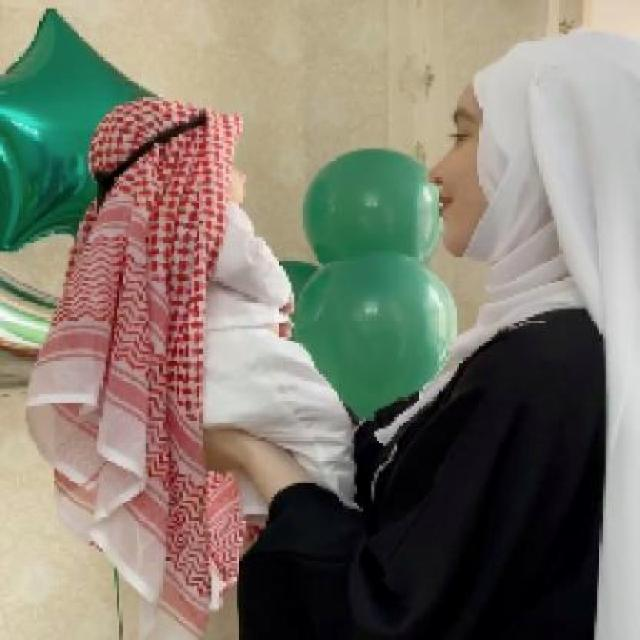child: (87, 95, 359, 528)
